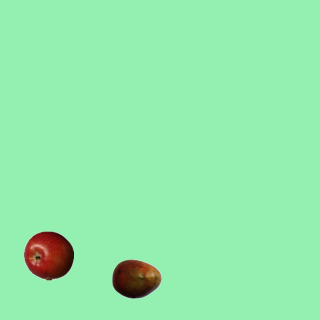Apple Braeburn: (23, 230, 73, 280)
Mango Red: (111, 253, 161, 303)
